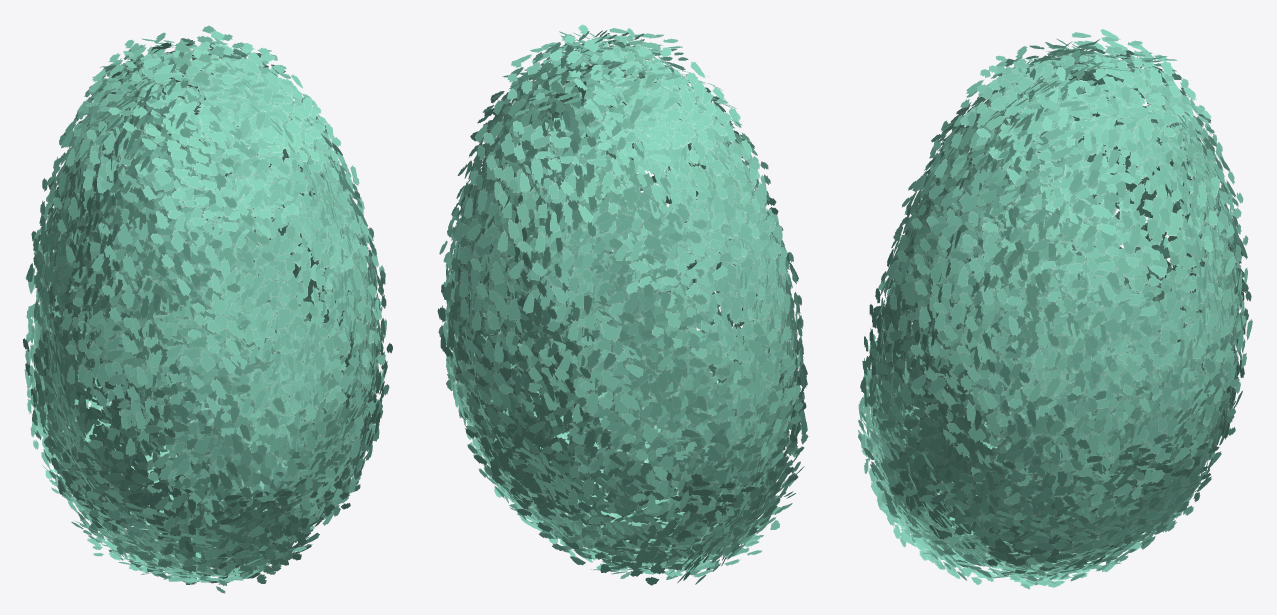
The model's file is Tree_Leaves_01.fbx.
3 renders of one model, left to right at view 1: azimuth 30°, elevation 25°; view 2: azimuth 150°, elevation 25°; view 3: azimuth 270°, elevation 25°, orthographic. The views are drawn at different scales.
Parts seen in each view (by area): view 1: Plane.006; view 2: Plane.006; view 3: Plane.006.
Boxes of the visible parts, left/top/right/bottom form: Plane.006: left=23, top=25, right=392, bottom=593; Plane.006: left=437, top=24, right=808, bottom=585; Plane.006: left=858, top=29, right=1252, bottom=589.
Bounding box in the file's own units: 776 × 1191 × 797.
